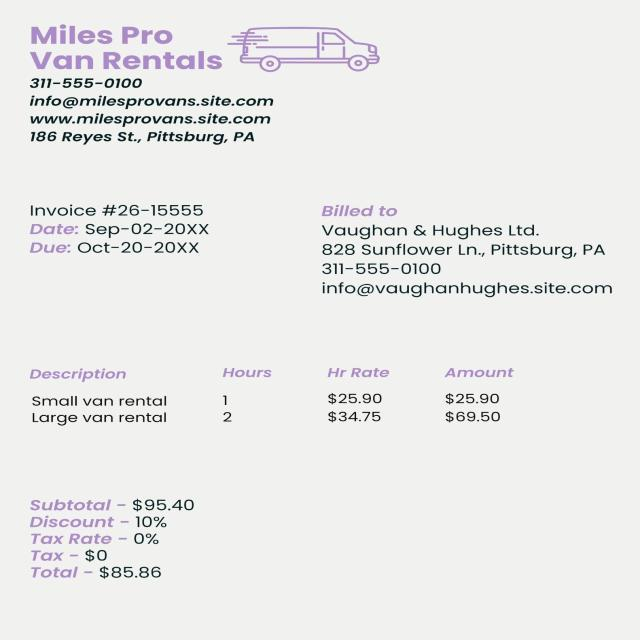ROI: (23, 366, 530, 444), (316, 193, 620, 304), (16, 77, 278, 148), (28, 494, 200, 584), (20, 194, 226, 265), (28, 22, 230, 77)
